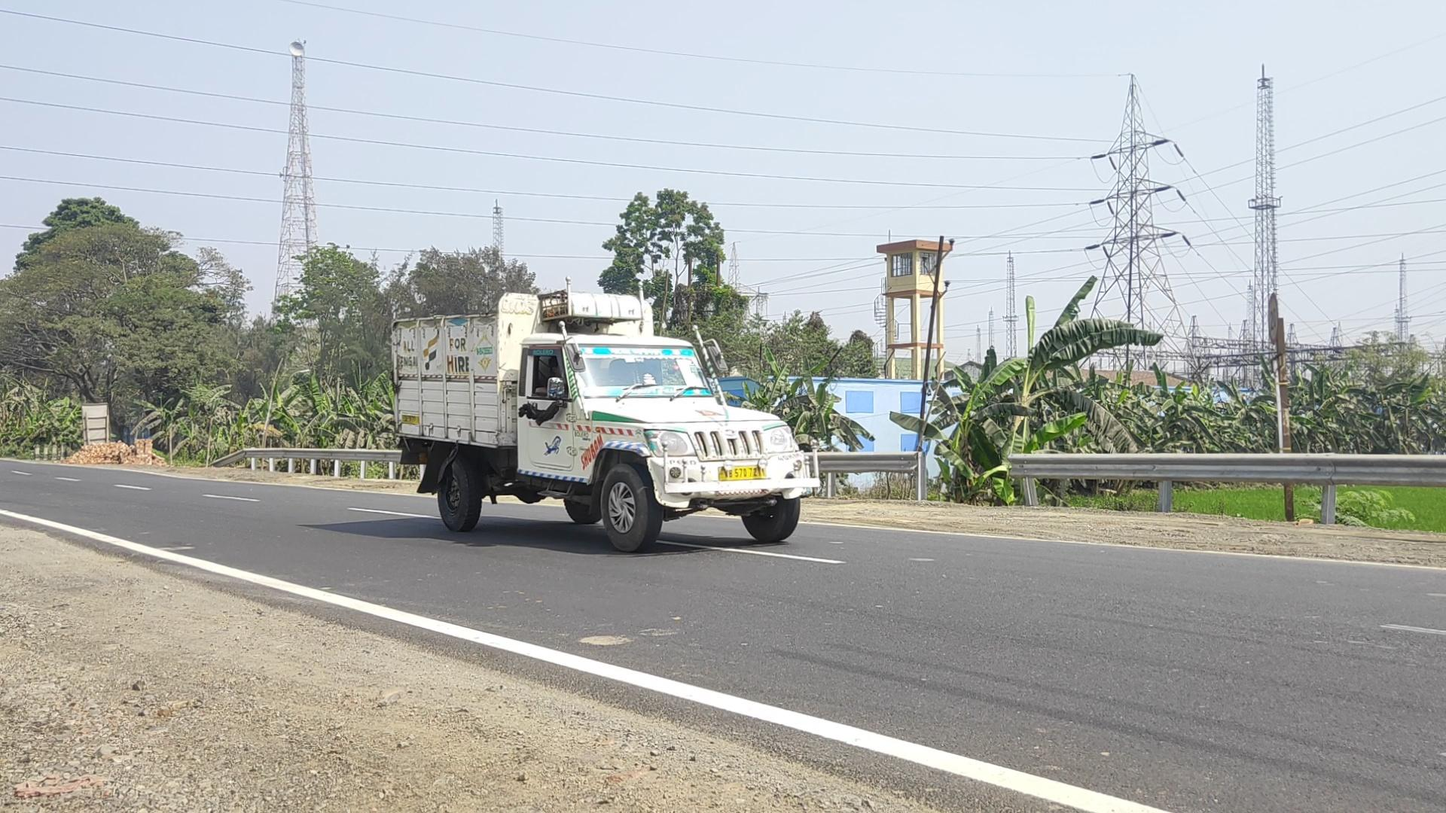van: (390, 276, 820, 552)
